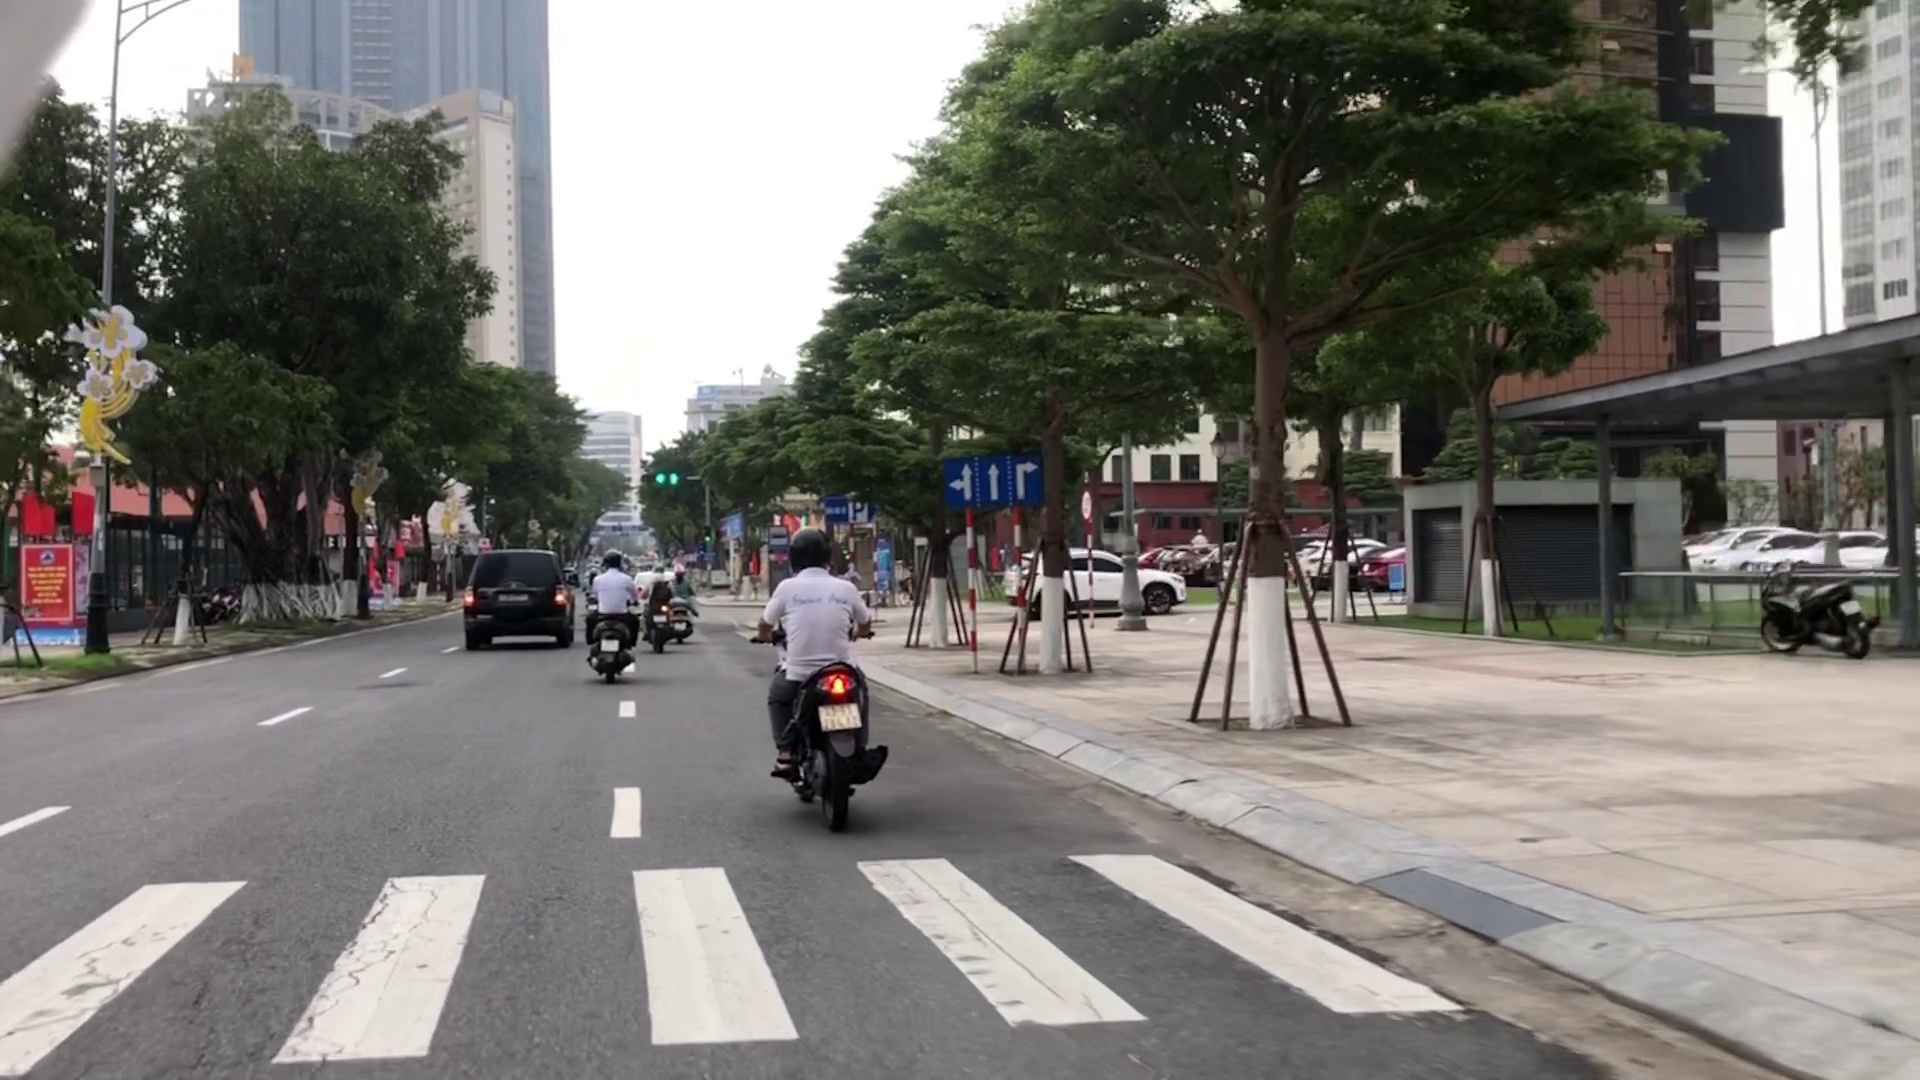Bien khac: (944, 454, 1044, 504), (825, 502, 872, 524)
